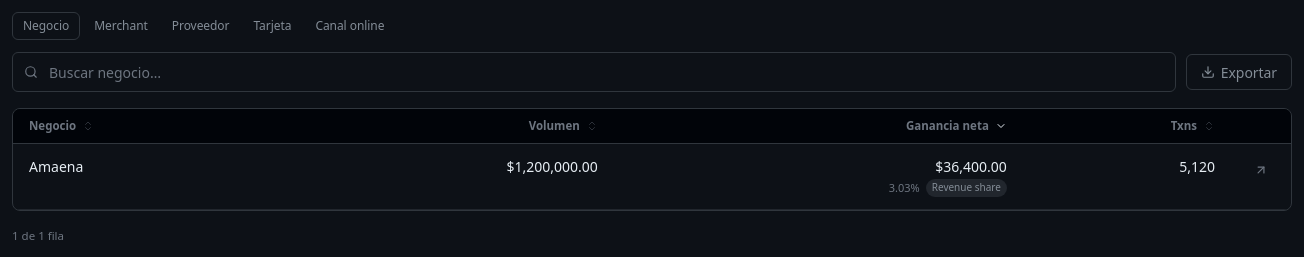
Scenario: EarningsBreakdown › shows the two tramos in the merchant tab
The width and height of the screenshot is (1304, 257).
Click the button "Merchant".
click(121, 26)  # box [84,12,158,40]
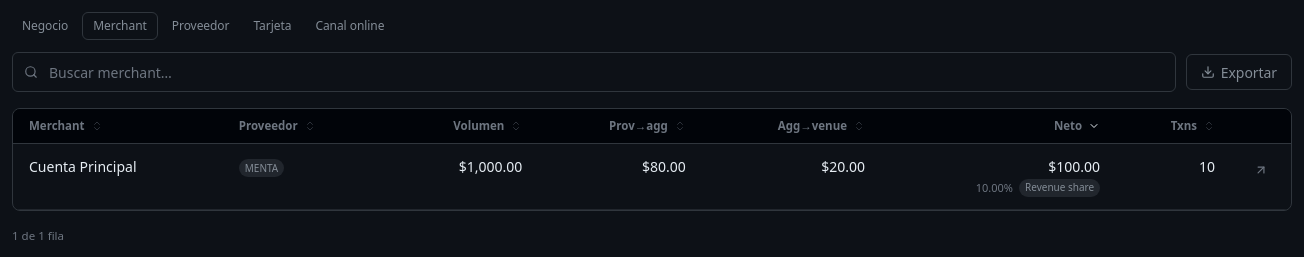
Check: the button "Prov→agg" is shown, box [609,119,686,133]
Check: the button "Agg→venue" is shown, box [778,119,865,133]
Check: the text "Cuenta Principal" is shown, box [13,144,223,209]
